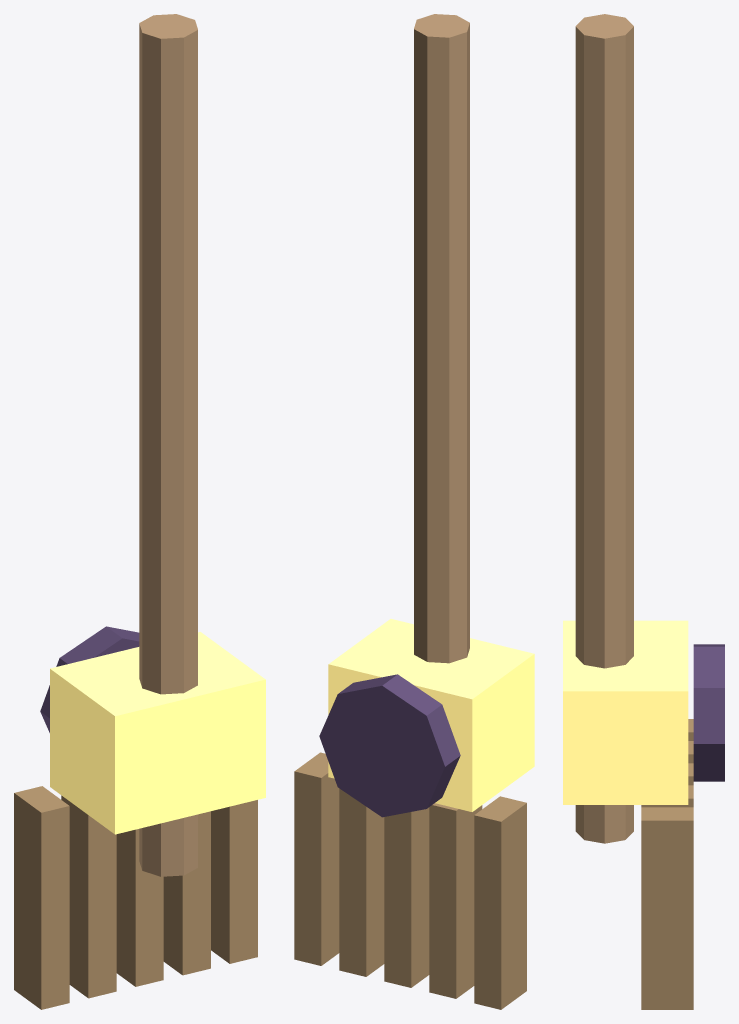
Rendered from tool_turbo.glb.
3 renders of one model, left to right at view 1: azimuth 30°, elevation 25°; view 2: azimuth 150°, elevation 25°; view 3: azimuth 270°, elevation 25°, orthographic. The views are drawn at different scales.
Parts seen in each view (by area): view 1: stick, motor, bristle_0, bristle_1, bristle_4, bristle_2, bristle_3, fan; view 2: stick, motor, fan, bristle_0, bristle_4, bristle_1, bristle_2, bristle_3; view 3: stick, motor, bristle_4, fan.
Boxes of the visible parts, x1=… form: stick: x1=139, y1=14, x2=197, y2=876; motor: x1=50, y1=632, x2=265, y2=834; bristle_0: x1=14, y1=786, x2=69, y2=1009; bristle_1: x1=61, y1=795, x2=116, y2=998; bristle_4: x1=211, y1=800, x2=257, y2=963; bristle_2: x1=116, y1=829, x2=163, y2=986; bristle_3: x1=163, y1=811, x2=210, y2=975; fan: x1=40, y1=626, x2=139, y2=732; stick: x1=414, y1=14, x2=469, y2=663; motor: x1=328, y1=619, x2=534, y2=811; fan: x1=319, y1=674, x2=460, y2=817; bristle_0: x1=474, y1=796, x2=526, y2=1009; bristle_4: x1=294, y1=752, x2=339, y2=965; bristle_1: x1=429, y1=803, x2=482, y2=998; bristle_2: x1=384, y1=807, x2=429, y2=987; bristle_3: x1=339, y1=788, x2=384, y2=976; stick: x1=575, y1=14, x2=633, y2=843; motor: x1=563, y1=620, x2=688, y2=804; bristle_4: x1=641, y1=807, x2=693, y2=1009; fan: x1=693, y1=644, x2=724, y2=781.
Bounding box in the file's own units: 0.23 × 0.985 × 0.155.
